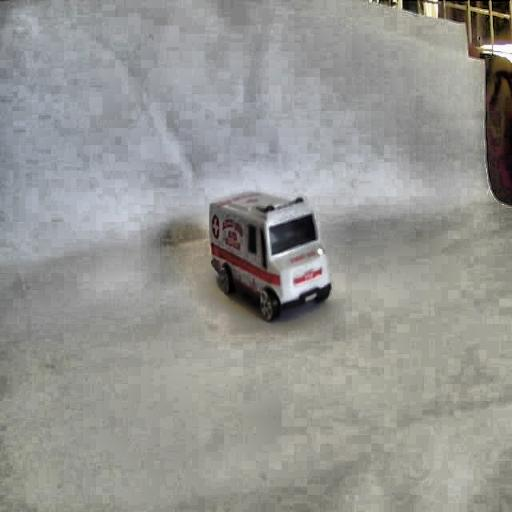ambulance: (208, 190, 331, 322)
